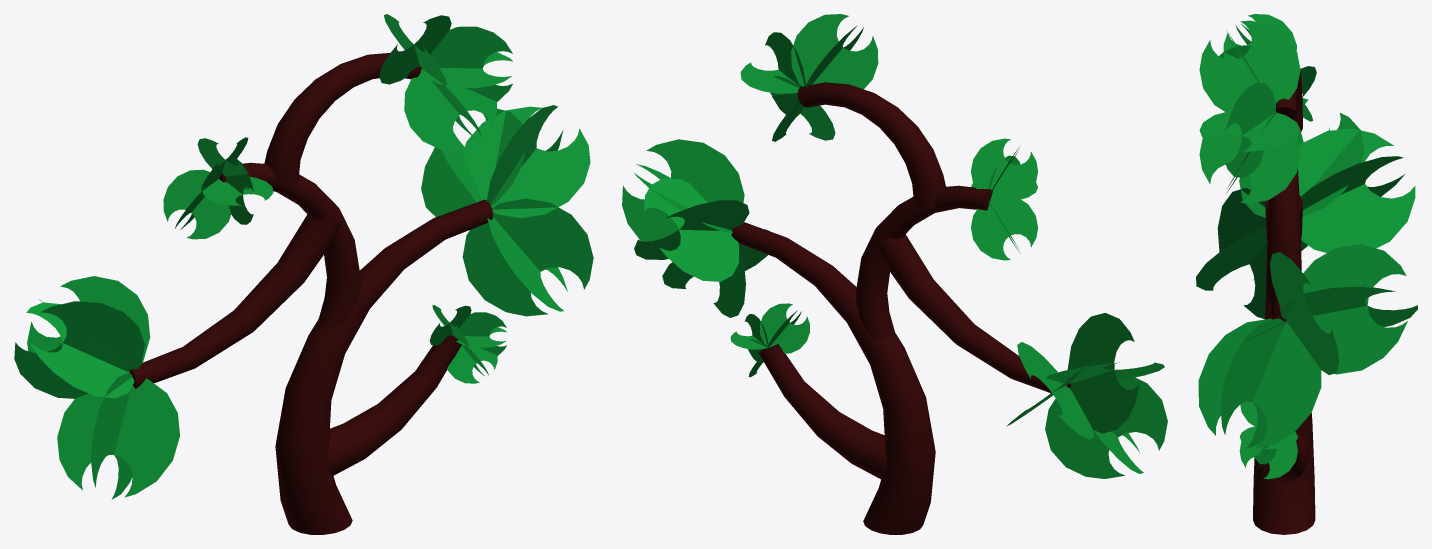
File: plant7.fbx
3 views of the same model, side by side, from view 1: azimuth 30°, elevation 25°; view 2: azimuth 150°, elevation 25°; view 3: azimuth 270°, elevation 25° (orthographic). The views are drawn at different scales.
Visible parts, largest first — view 1: Leaves, Stem_2; view 2: Leaves, Stem_2; view 3: Leaves, Stem_2.
Boxes of the visible parts, x1=… form: Leaves: x1=14, y1=14, x2=593, y2=499; Stem_2: x1=130, y1=53, x2=492, y2=534; Leaves: x1=622, y1=14, x2=1167, y2=478; Stem_2: x1=731, y1=82, x2=1070, y2=534; Leaves: x1=1196, y1=14, x2=1417, y2=479; Stem_2: x1=1253, y1=71, x2=1315, y2=534.
Bounding box in the file's own units: 2.41 × 2.1 × 0.7963.
